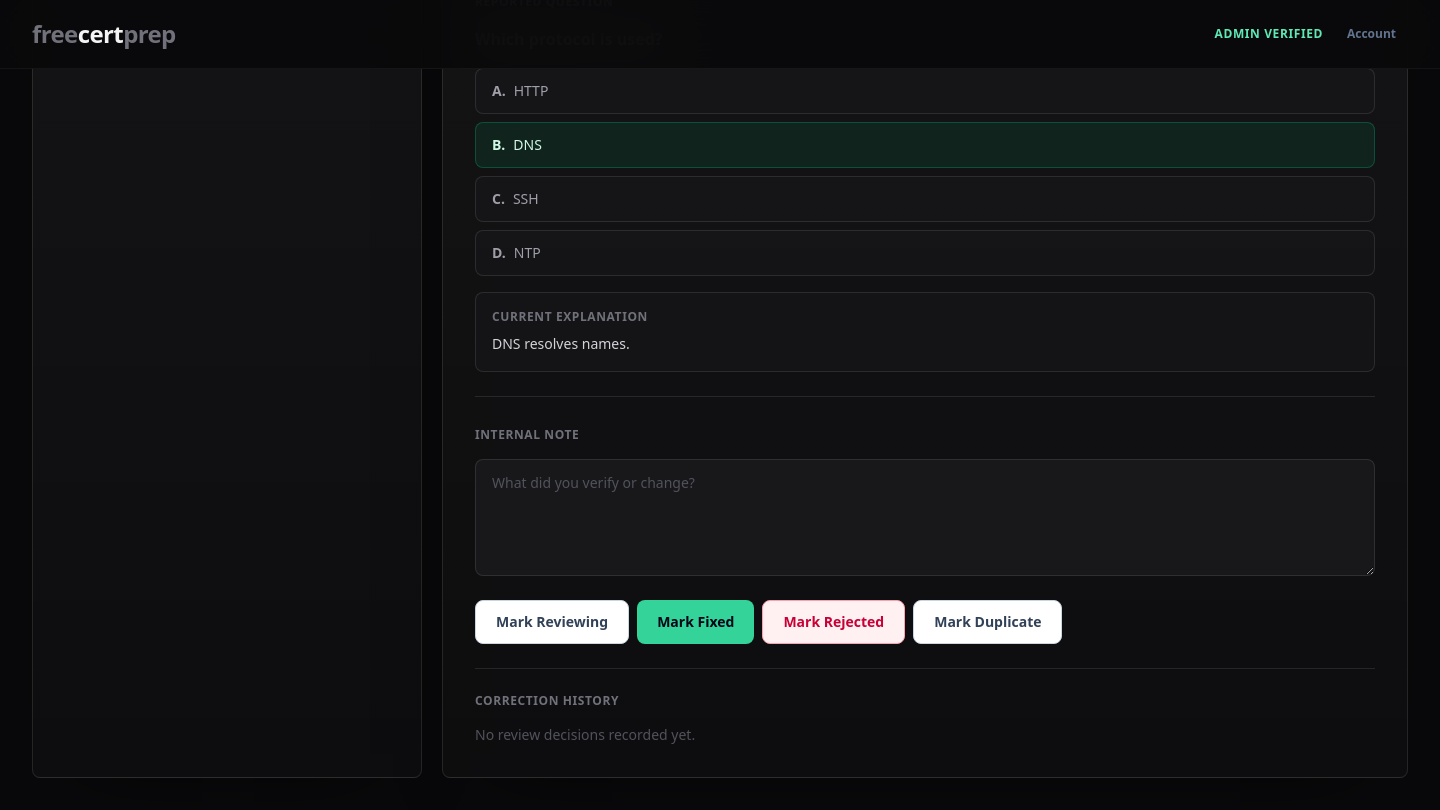
Test: admin report review page › shows the protected queue and records an admin decision
(page scrolled)
Type "Verified against the source." into the text box labelled "Internal note" at (925, 518), box left=475, top=459, right=1375, bottom=576
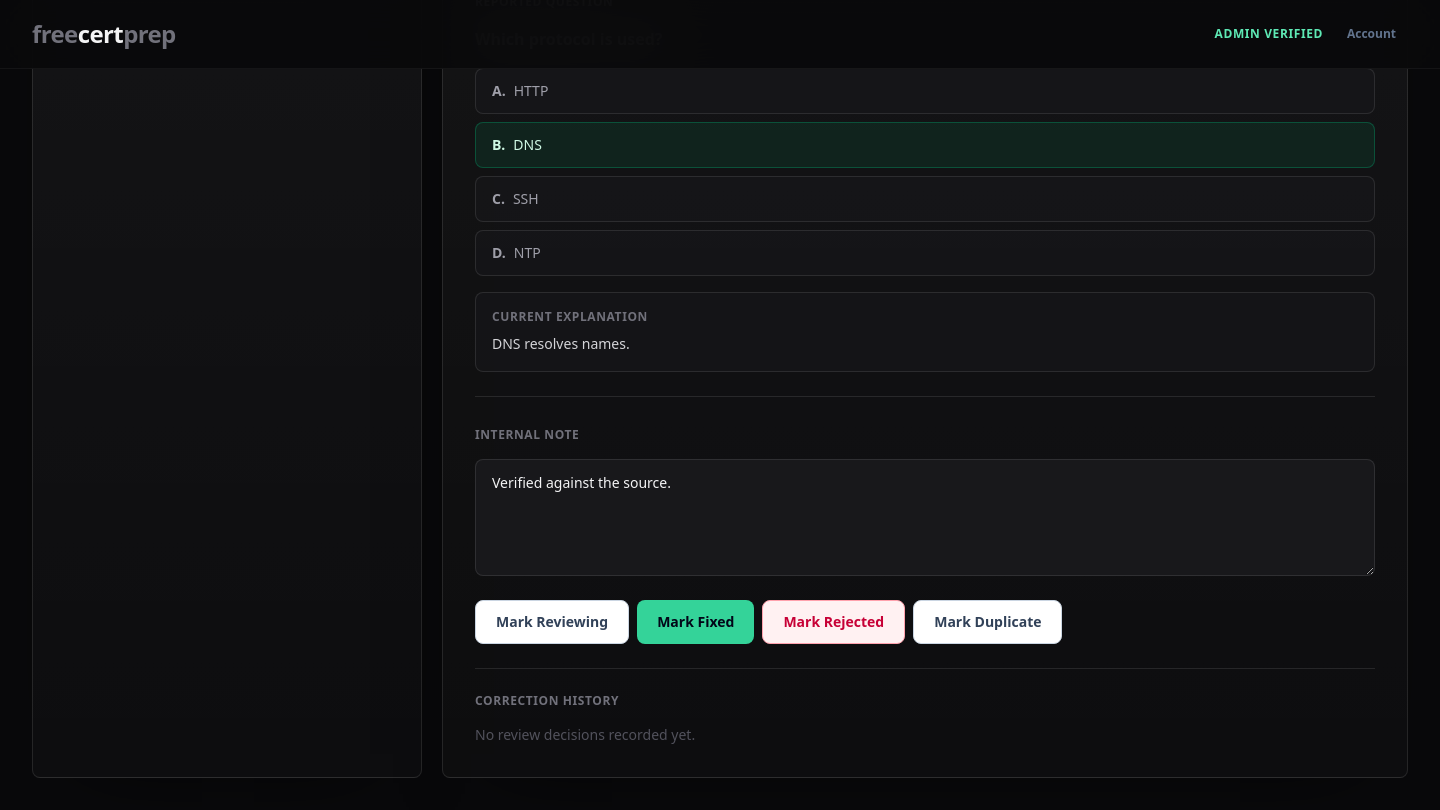
Click the button "Mark Fixed" at (696, 622), box left=637, top=600, right=754, bottom=644
(page scrolled)
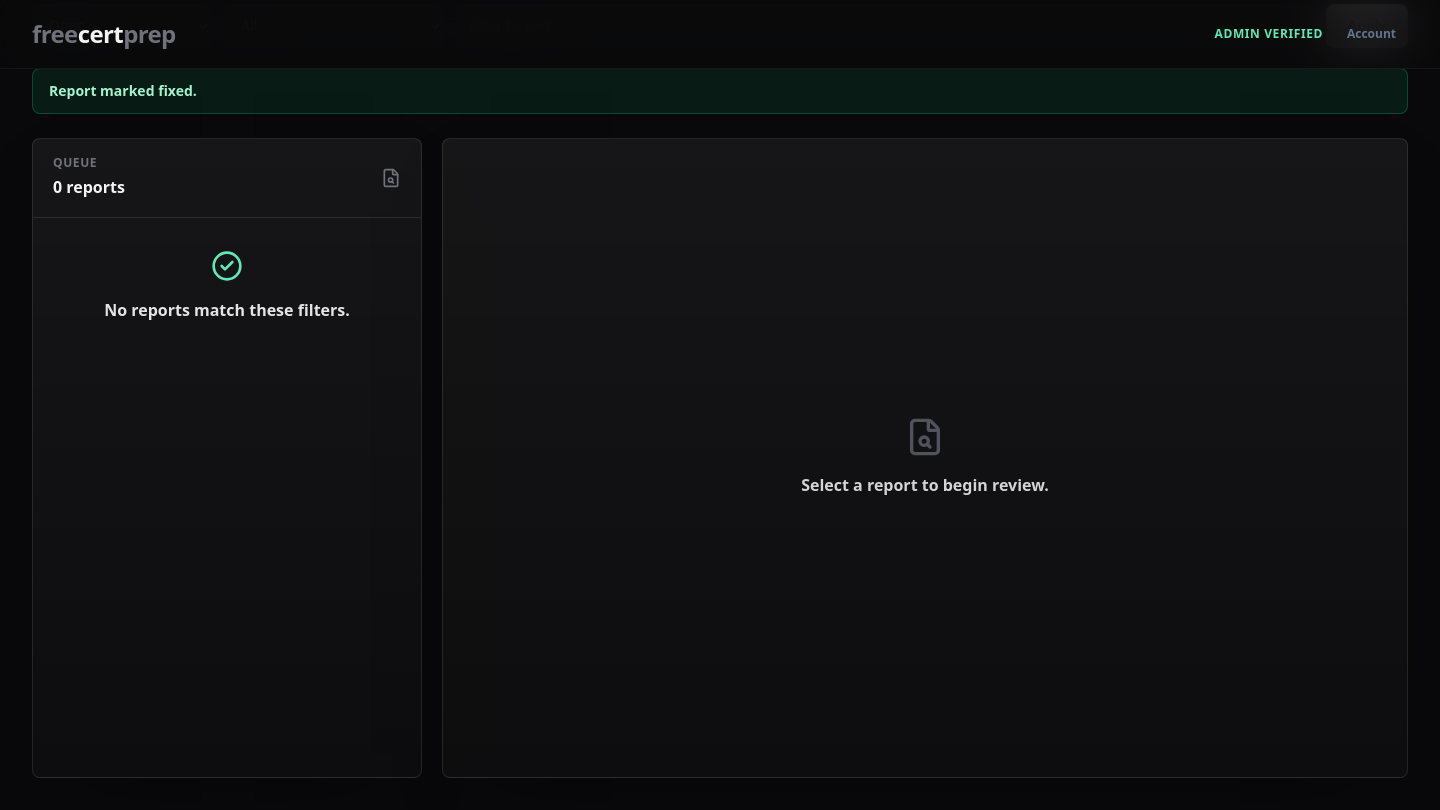
Now the message reads "Report marked fixed.", box left=49, top=81, right=197, bottom=100
